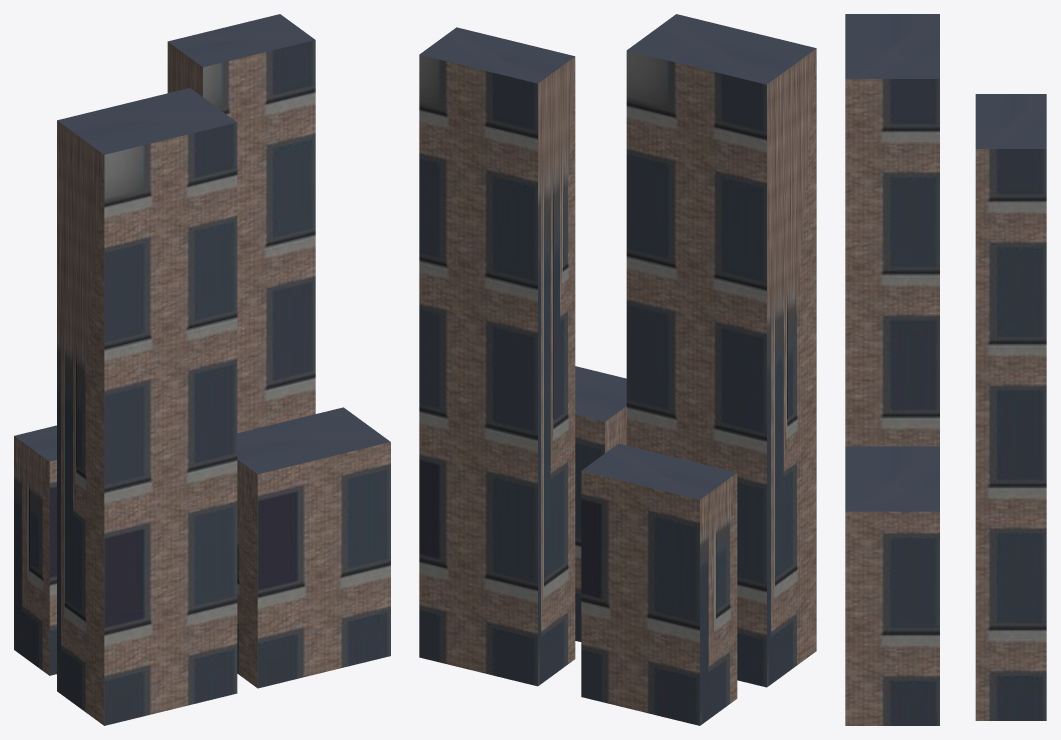
The model's file is block_18.obj.
3 views of the same model, side by side, from view 1: azimuth 30°, elevation 25°; view 2: azimuth 150°, elevation 25°; view 3: azimuth 270°, elevation 25° (orthographic). The views are drawn at different scales.
Visible parts, largest first — view 1: b1, b3, b2, b0; view 2: b2, b1, b0, b3; view 3: b2, b1, b3.
Part boxes in pixels (<box>): b1: <box>57,88,237,725</box>; b3: <box>237,407,390,688</box>; b2: <box>167,14,315,432</box>; b0: <box>14,425,56,675</box>; b2: <box>419,27,575,686</box>; b1: <box>626,14,816,687</box>; b0: <box>581,443,737,725</box>; b3: <box>575,366,626,641</box>; b2: <box>975,94,1046,720</box>; b1: <box>845,14,939,446</box>; b3: <box>845,446,939,725</box>.
Size of the model in its own units: 4.2 by 8 by 2.55.
